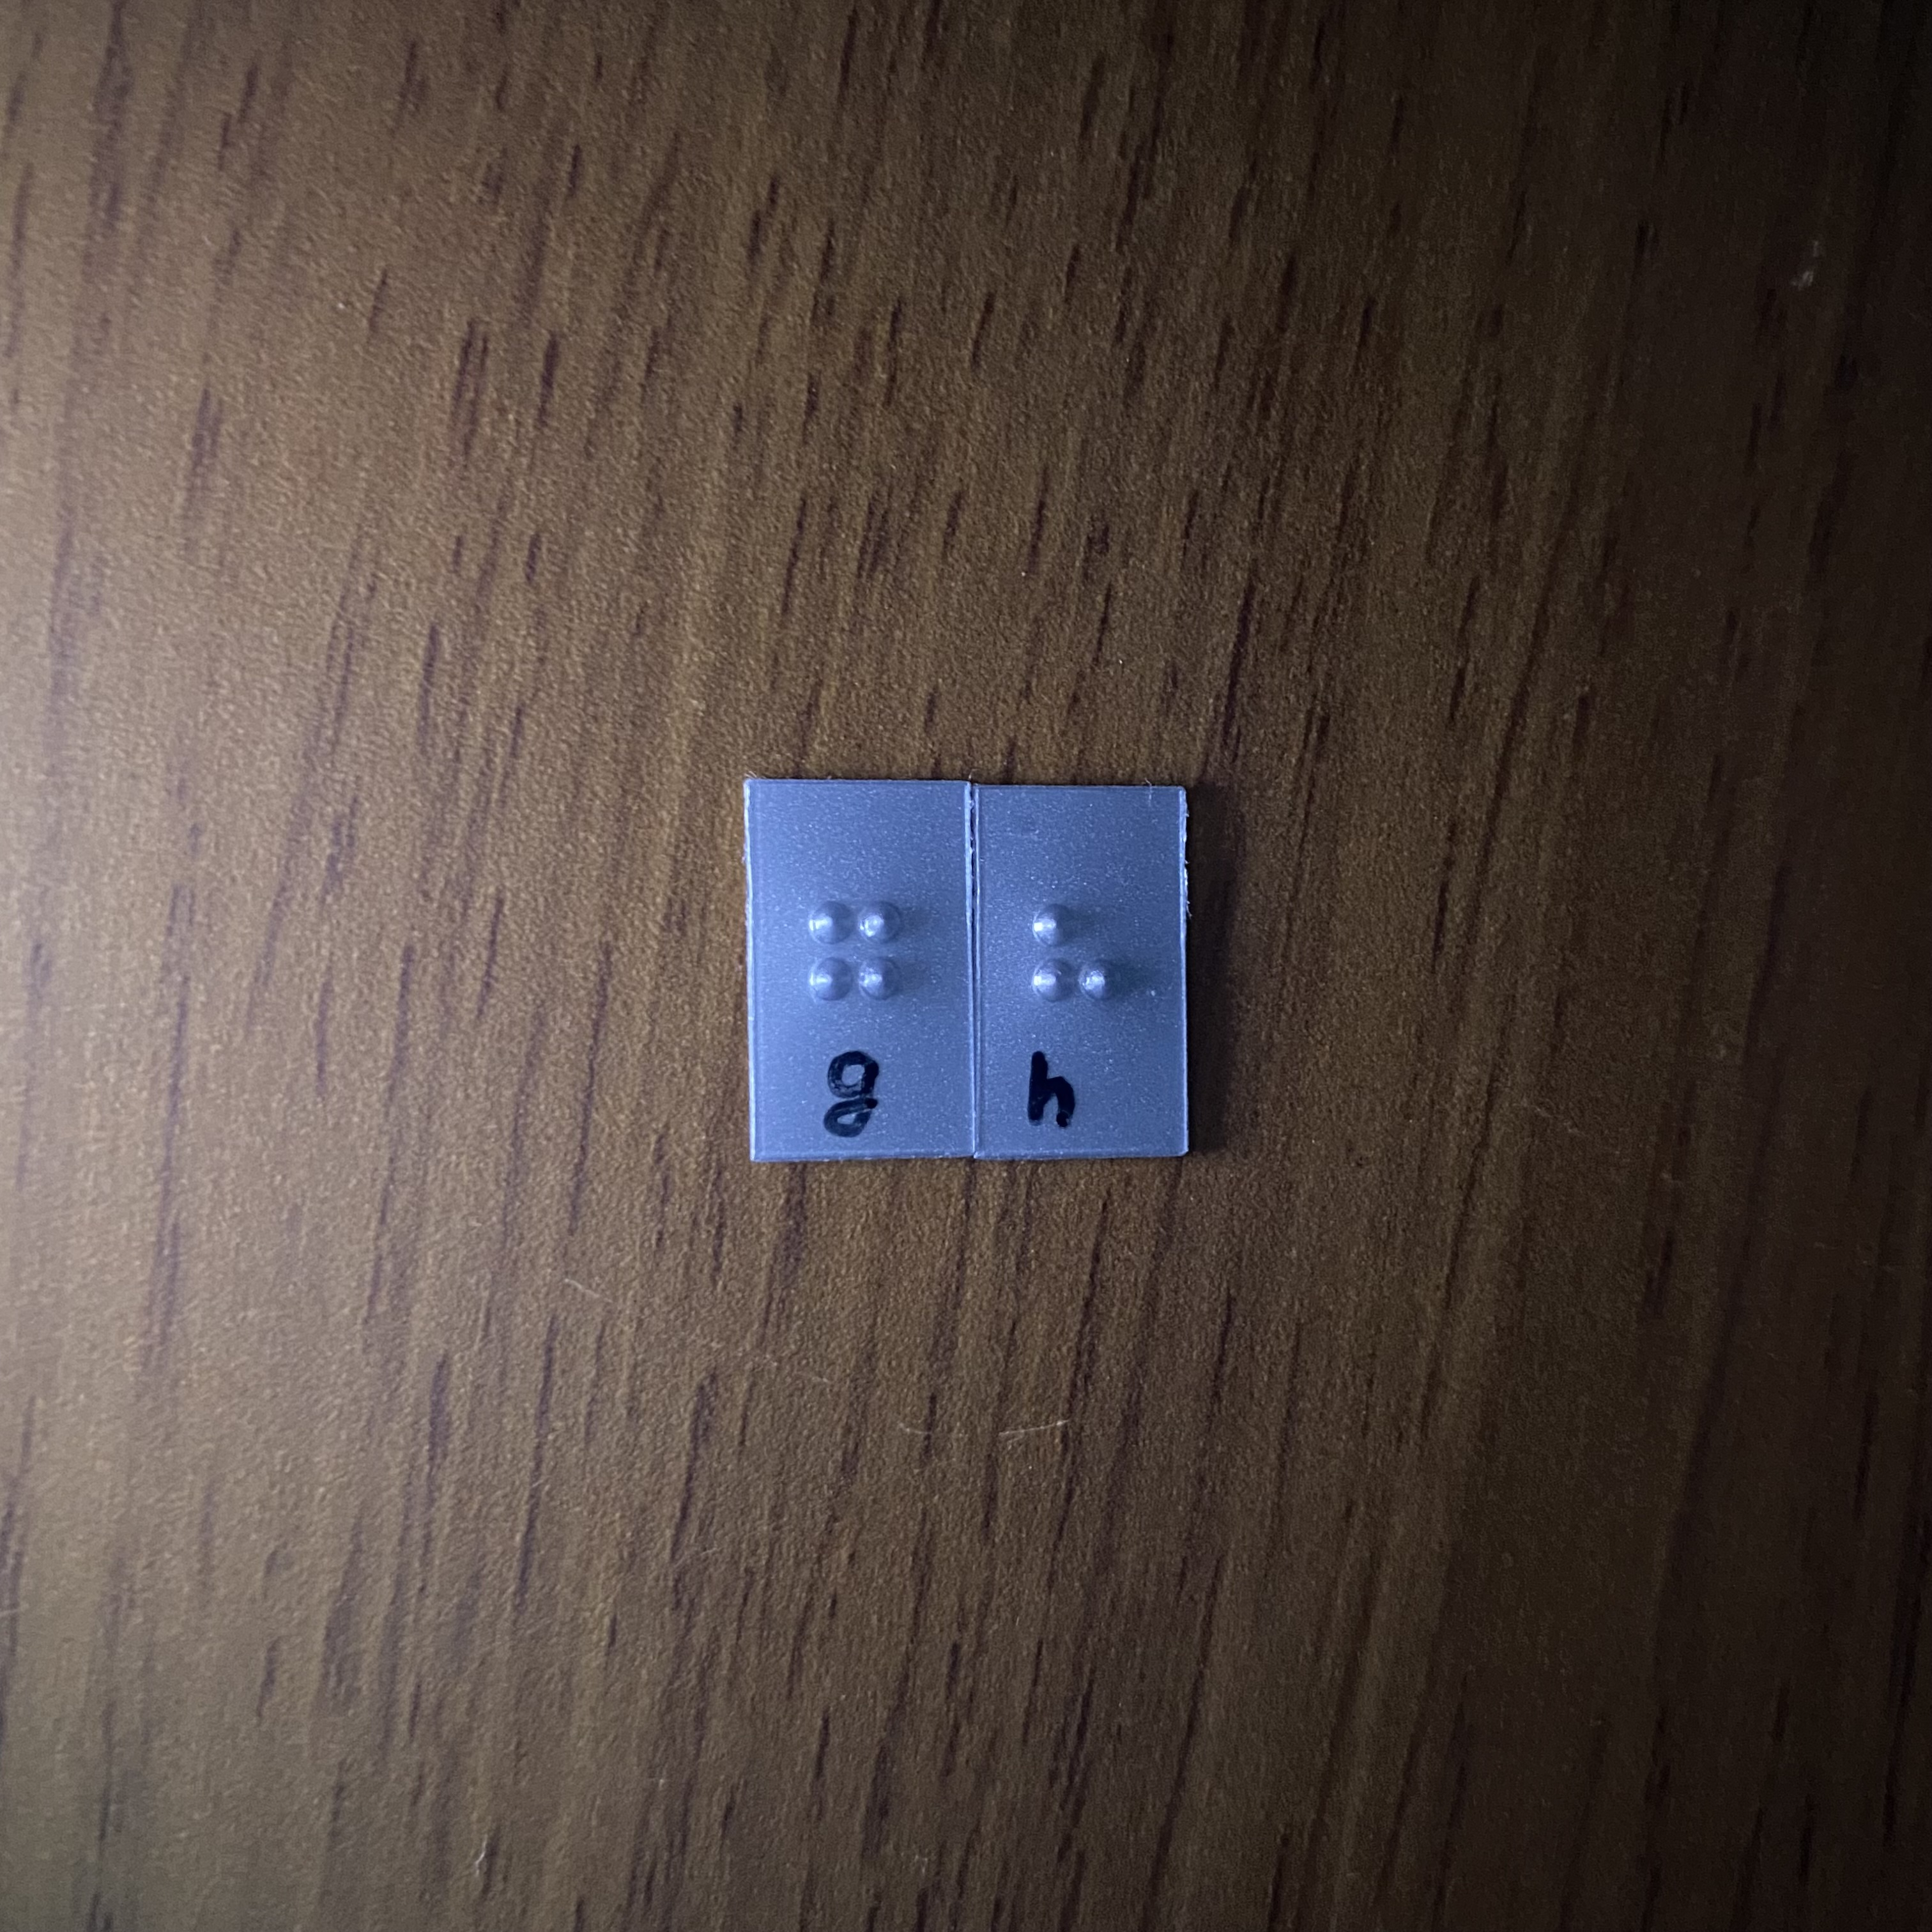g: (796, 885, 917, 1048)
h: (1023, 885, 1151, 1046)
